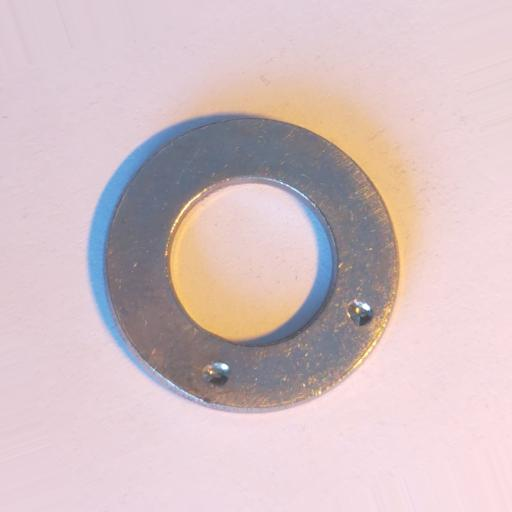circular_cavity: (201, 360, 231, 386), (347, 300, 374, 326)
